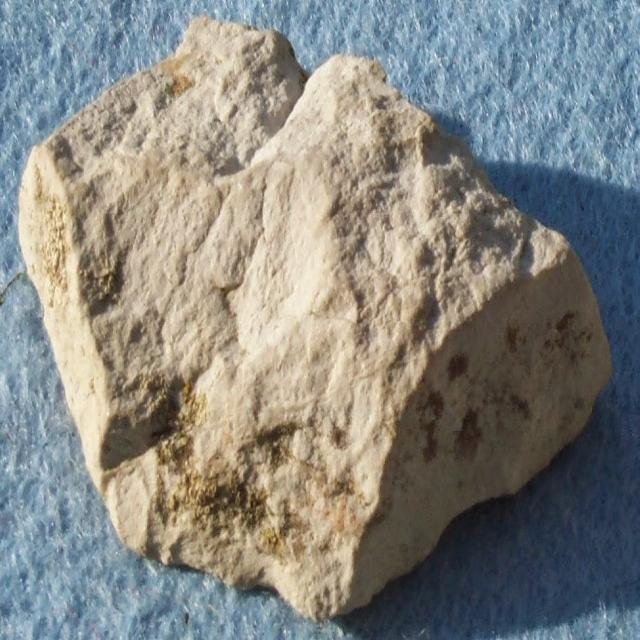Sedimentary: (20, 13, 619, 609)
